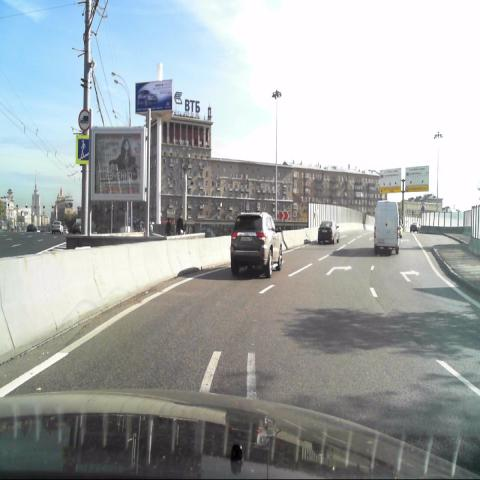3_4_1: (78, 107, 92, 134)
6_6: (76, 133, 91, 164)
